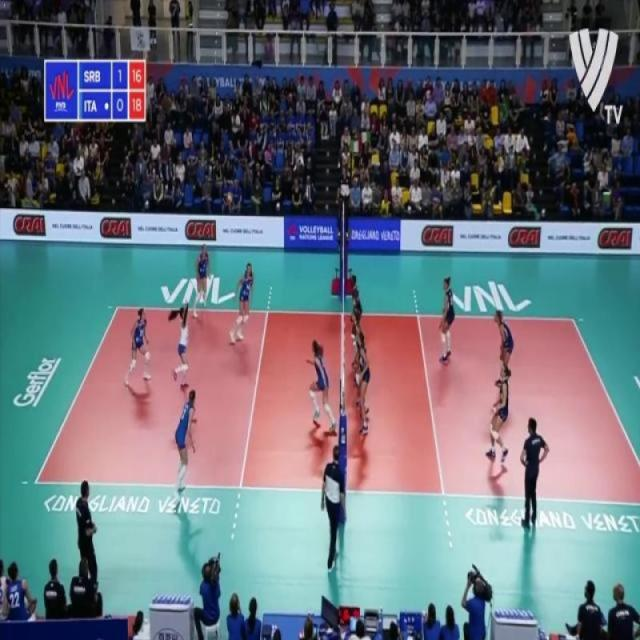volleyball: (226, 192, 233, 205)
